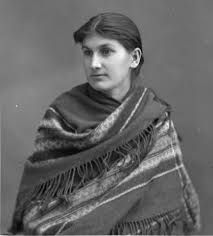no-mask: (65, 11, 149, 91)
